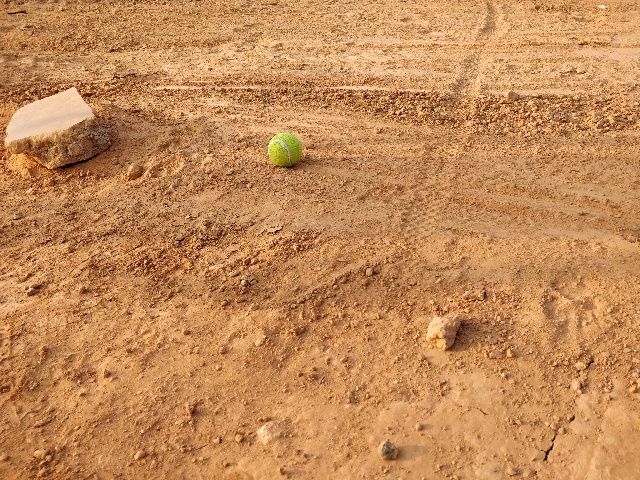ball: (262, 129, 306, 170)
